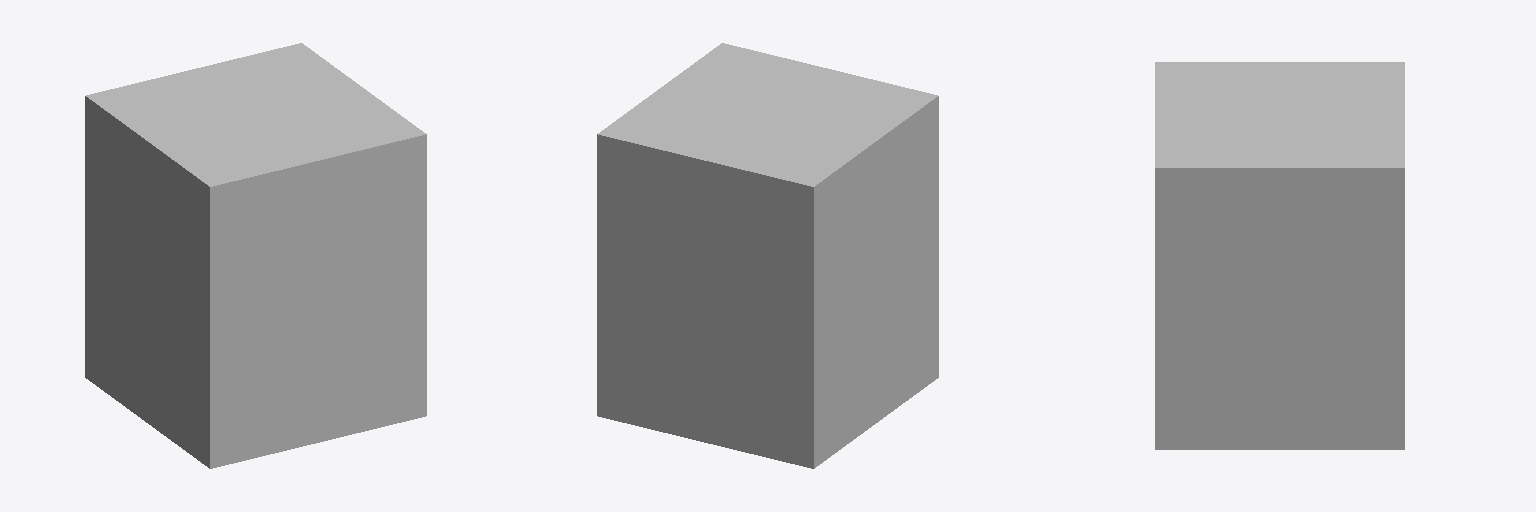
File: pillar 1.obj
3 renders of one model, left to right at view 1: azimuth 30°, elevation 25°; view 2: azimuth 150°, elevation 25°; view 3: azimuth 270°, elevation 25°, orthographic.
Visible parts, largest first — view 1: object 1; view 2: object 1; view 3: object 1.
Part boxes in pixels (left/top/right/bottom): object 1: left=85, top=43, right=426, bottom=468; object 1: left=597, top=43, right=938, bottom=468; object 1: left=1155, top=62, right=1404, bottom=449.
Size of the model in its own units: 9 by 11.2 by 9.